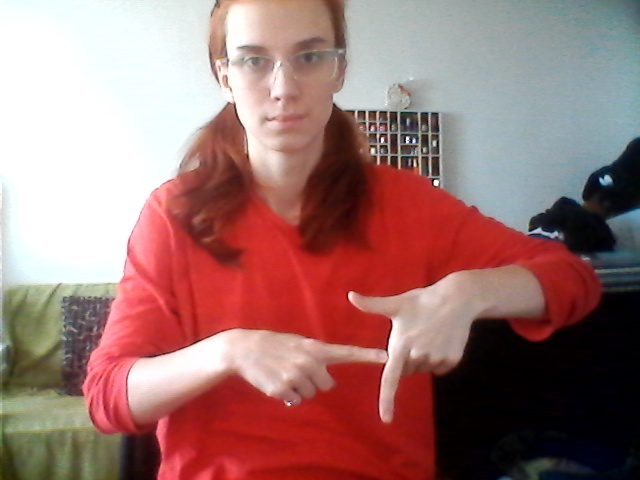f: (268, 278, 423, 437)
